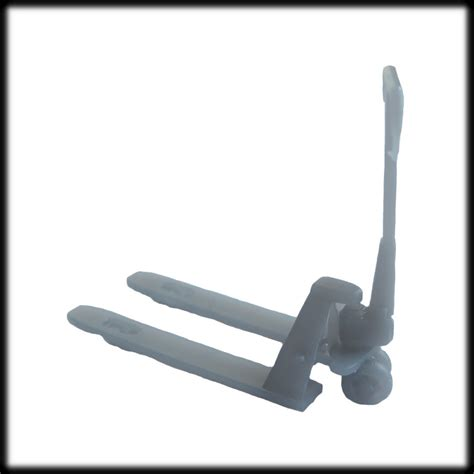Pallet Jack: (64, 63, 409, 413)
